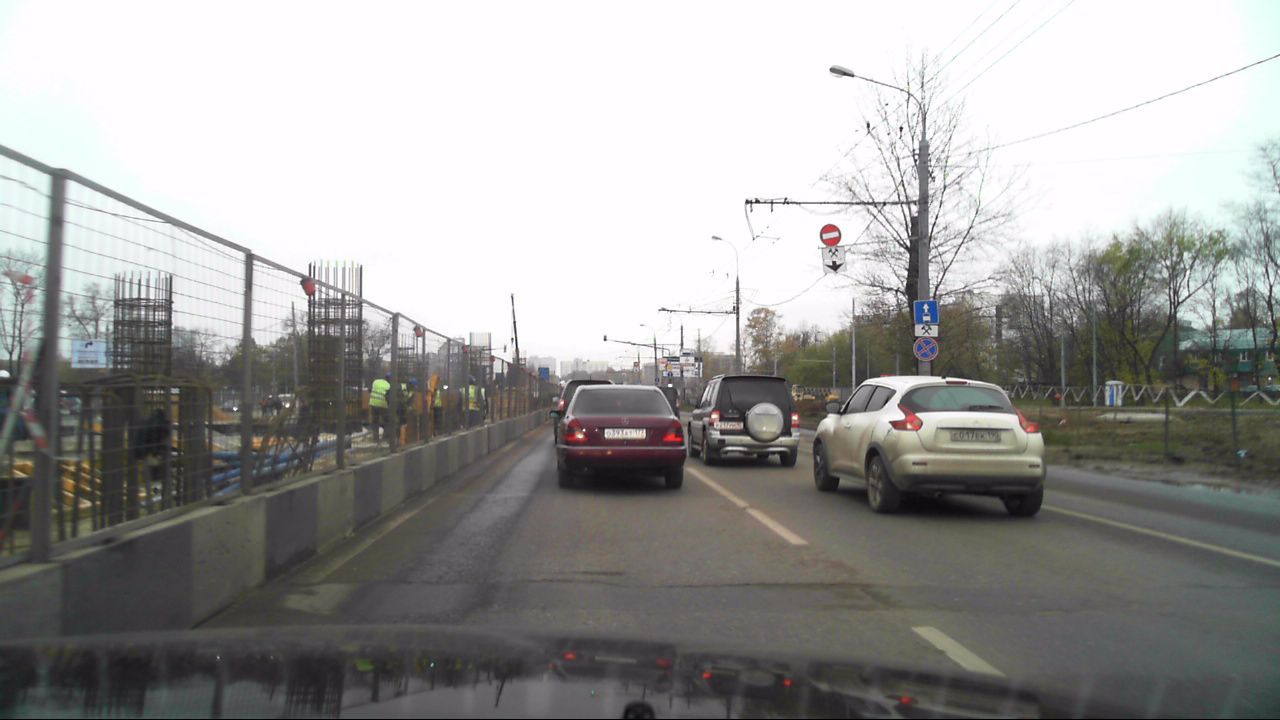No Parking: (913, 337, 938, 361)
